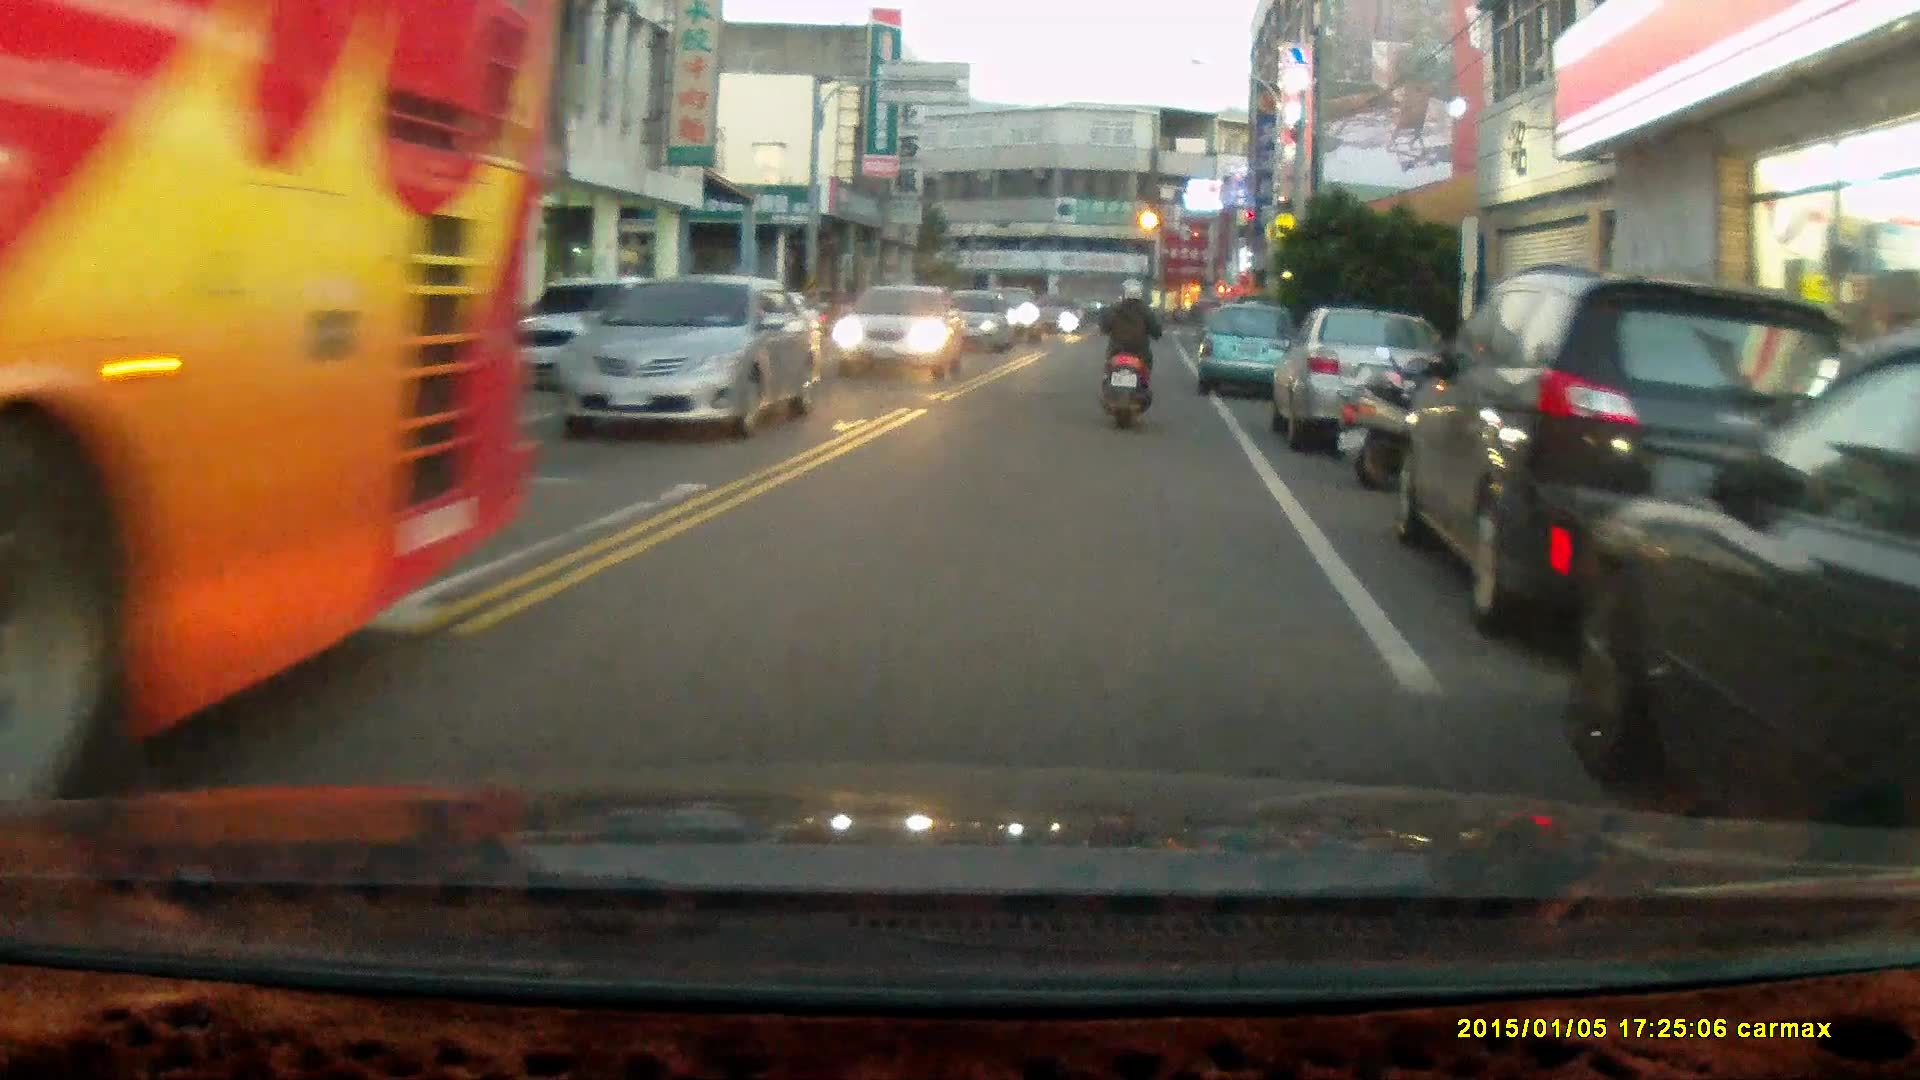rider: (1092, 275, 1159, 431)
vehicle: (1, 9, 547, 810), (1397, 263, 1904, 635), (1572, 346, 1920, 842), (552, 269, 824, 447), (1278, 304, 1453, 459), (835, 284, 966, 380), (1196, 300, 1302, 401), (936, 286, 1021, 356)
